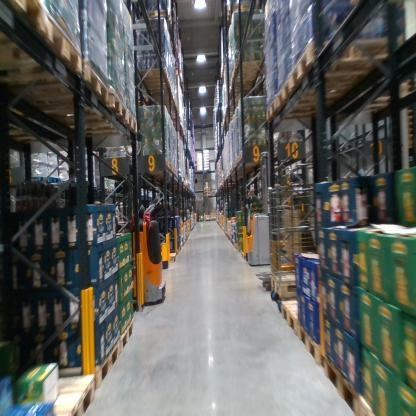pallets: (0, 0, 152, 146), (261, 33, 398, 144), (273, 299, 375, 413), (92, 317, 135, 390)
